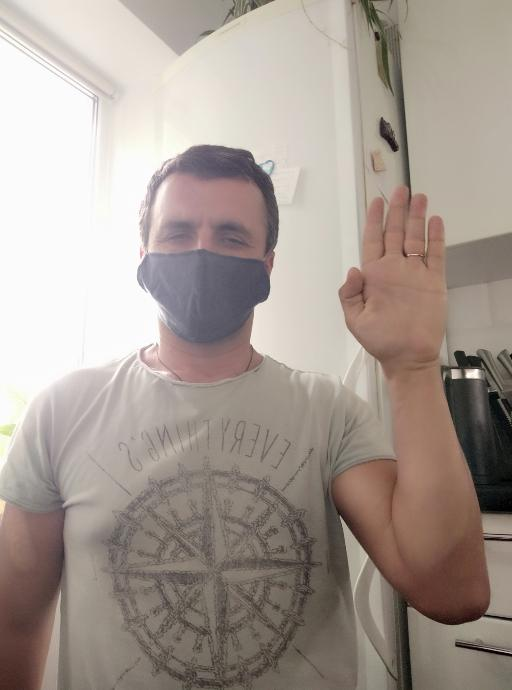stop: (337, 183, 450, 368)
